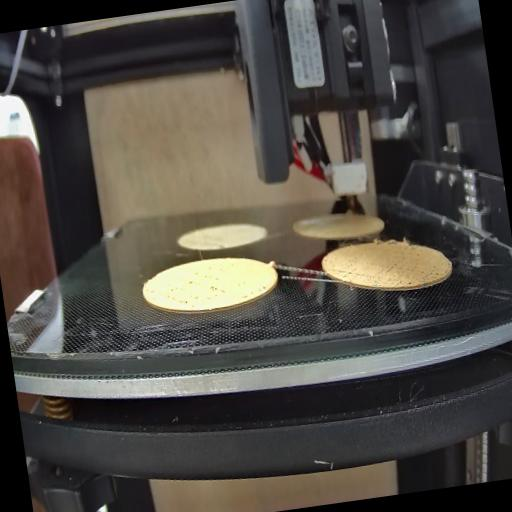under_extrusion: (158, 266, 228, 310), (381, 248, 443, 286), (329, 264, 374, 286), (242, 282, 269, 304)
